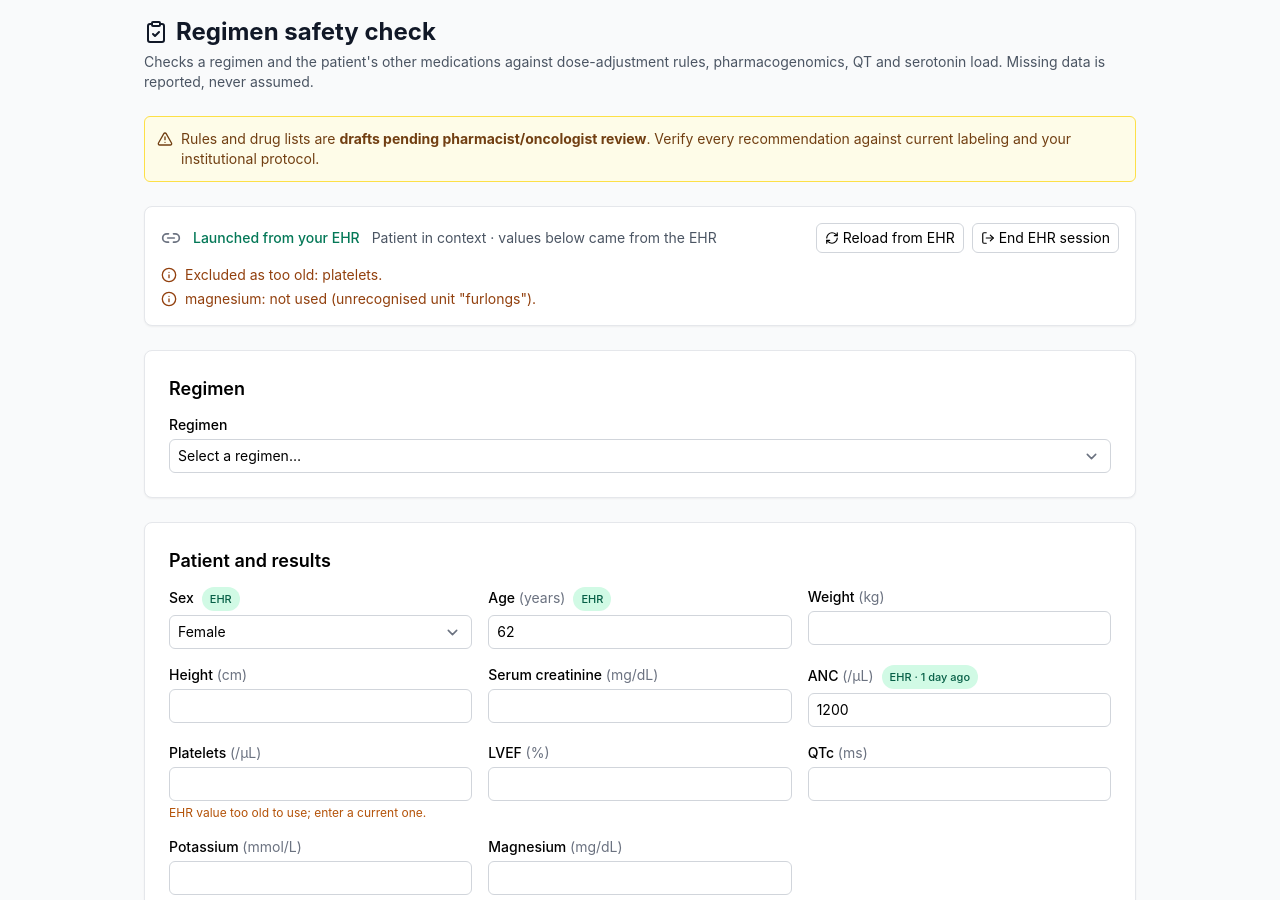
Test case: SafetyCheck page › EHR launch pre-fills values with provenance chips and the medication list; editing drops the chip
Expected: the text "Launched from your EHR" is shown, [193,228,360,248]
Expected: the text "EHR · 1 day ago" is shown, [882,665,978,689]
Replace the text in the number field labelled "ANC (/µL) EHR · 1 day ago" with "900" at coordinates (959, 710), box [808,693,1111,727]
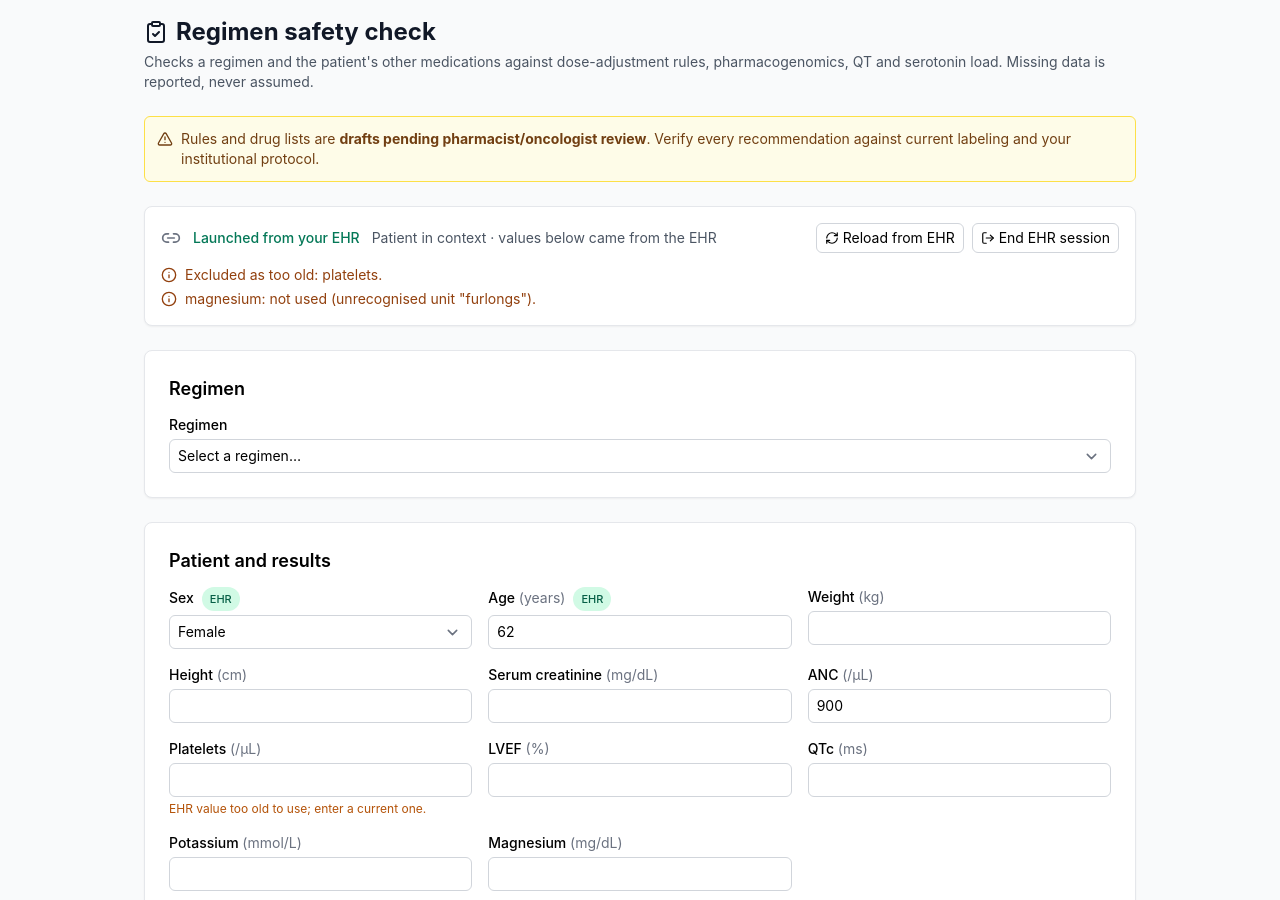
Result: the text "EHR · 1 day ago" is gone
